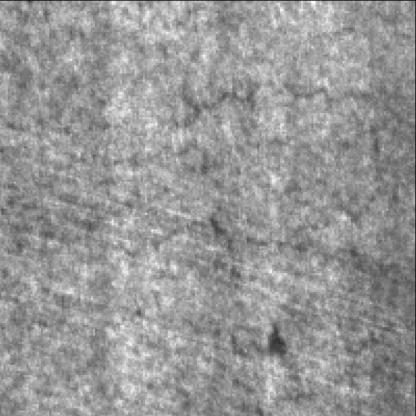crazing: (90, 141, 224, 266), (168, 73, 404, 135)
